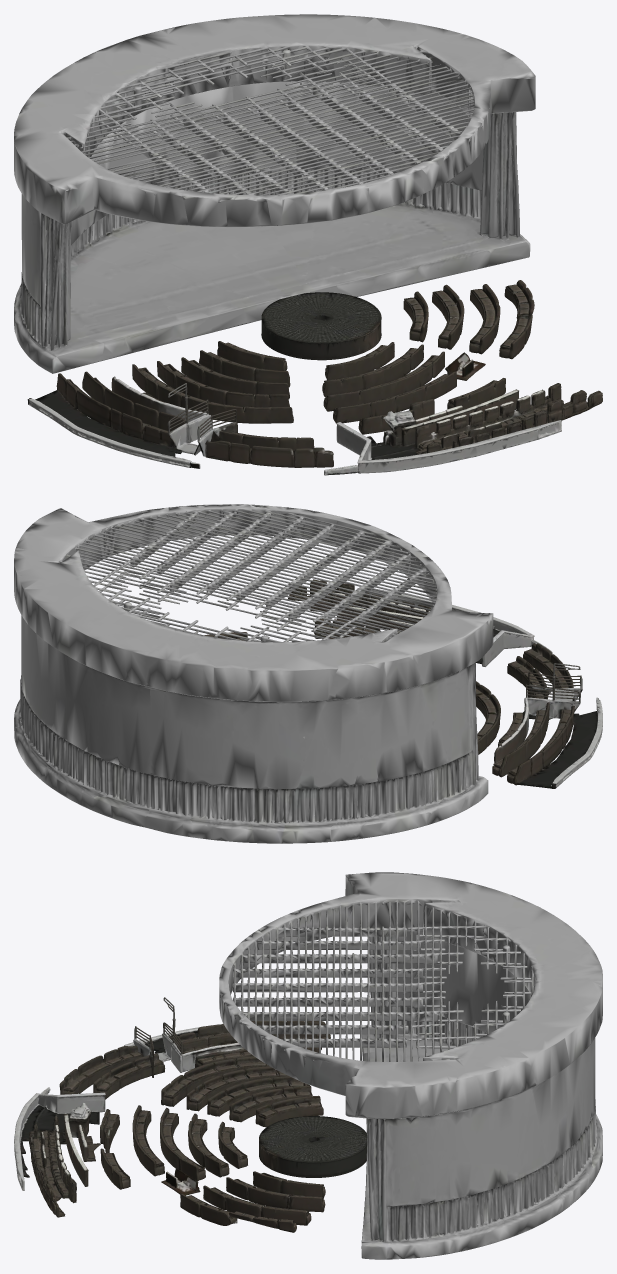
Rendered from stage-and-seating.glb.
3 views of the same model, one above another, from view 1: azimuth 30°, elevation 25°; view 2: azimuth 150°, elevation 25°; view 3: azimuth 270°, elevation 25° (orthographic). The views are drawn at different scales.
Parts seen in each view (by area): view 1: tripo_node_974f1ce5-d881-4d32-b245-d4cbb04b908b, tripo_node_933d99cd-c67e-4555-9827-57b7417d858b; view 2: tripo_node_974f1ce5-d881-4d32-b245-d4cbb04b908b, tripo_node_933d99cd-c67e-4555-9827-57b7417d858b; view 3: tripo_node_974f1ce5-d881-4d32-b245-d4cbb04b908b, tripo_node_933d99cd-c67e-4555-9827-57b7417d858b.
Part boxes in pixels (x1=…): tripo_node_974f1ce5-d881-4d32-b245-d4cbb04b908b: x1=14, y1=14, x2=535, y2=373; tripo_node_933d99cd-c67e-4555-9827-57b7417d858b: x1=27, y1=280, x2=602, y2=475; tripo_node_974f1ce5-d881-4d32-b245-d4cbb04b908b: x1=14, y1=504, x2=493, y2=843; tripo_node_933d99cd-c67e-4555-9827-57b7417d858b: x1=204, y1=579, x2=602, y2=788; tripo_node_974f1ce5-d881-4d32-b245-d4cbb04b908b: x1=219, y1=872, x2=602, y2=1259; tripo_node_933d99cd-c67e-4555-9827-57b7417d858b: x1=14, y1=997, x2=367, y2=1232.
Bounding box in the file's own units: 1.07 × 0.3703 × 1.13.
Materials: 2 (2 with a texture image).
